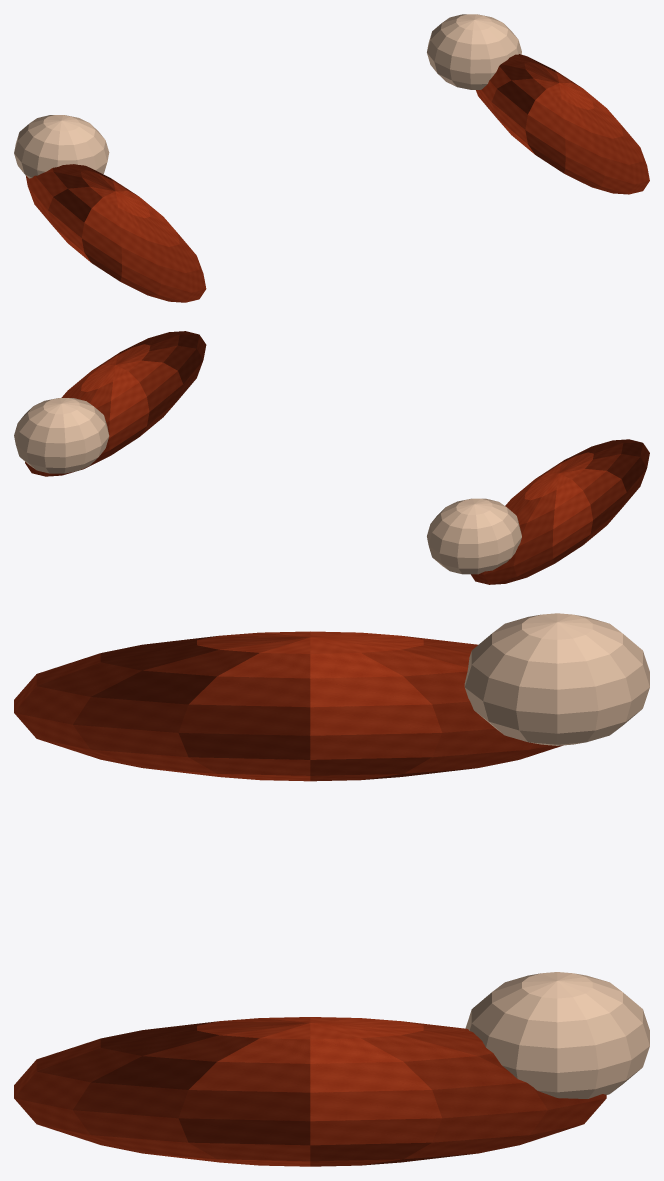
The model's file is first_person_hands.gltf.
3 views of the same model, one above another, from view 1: azimuth 30°, elevation 25°; view 2: azimuth 150°, elevation 25°; view 3: azimuth 270°, elevation 25° (orthographic). The views are drawn at different scales.
Visible parts, largest first — view 1: first_person_hands; view 2: first_person_hands; view 3: first_person_hands.
Part boxes in pixels (x1,y1,x2,y2): first_person_hands: (14,14,649,302); first_person_hands: (14,331,649,584); first_person_hands: (14,613,649,1166).
Bounding box in the file's own units: 1.66 × 0.29 × 1.
Materials: 2 (1 with a texture image).
